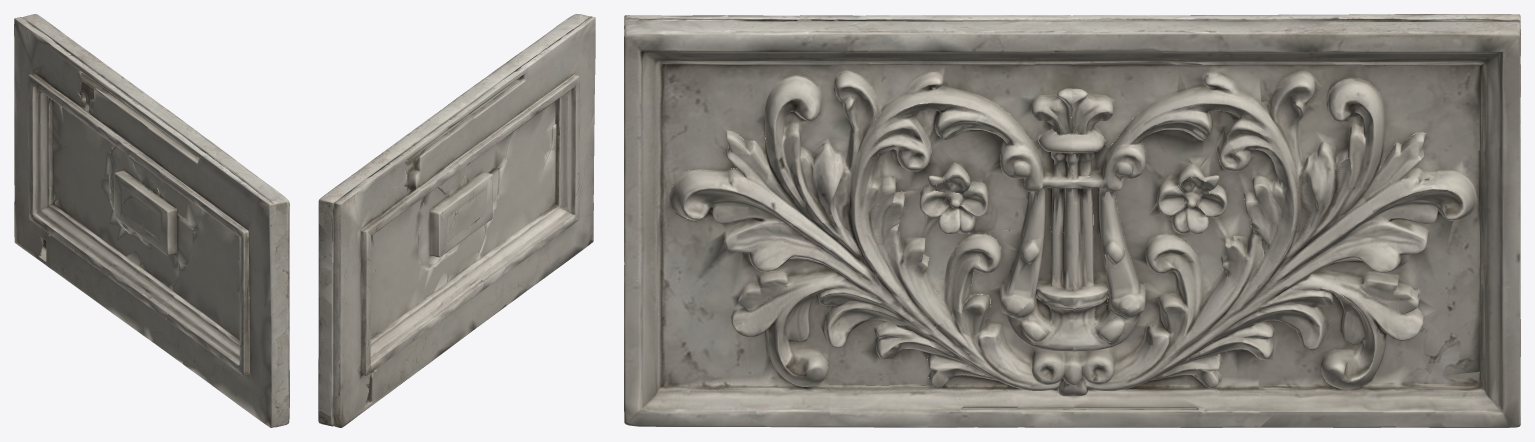
The model's file is relief-1.glb.
3 views of the same model, side by side, from view 1: azimuth 30°, elevation 25°; view 2: azimuth 150°, elevation 25°; view 3: azimuth 270°, elevation 25° (orthographic). The views are drawn at different scales.
Parts seen in each view (by area): view 1: tripo_node_01d29424-f855-4417-b050-a11e23d70070; view 2: tripo_node_01d29424-f855-4417-b050-a11e23d70070; view 3: tripo_node_01d29424-f855-4417-b050-a11e23d70070.
Part boxes in pixels (box(x1,y1,x2,y2)): tripo_node_01d29424-f855-4417-b050-a11e23d70070: box(14, 14, 289, 427); tripo_node_01d29424-f855-4417-b050-a11e23d70070: box(318, 14, 595, 427); tripo_node_01d29424-f855-4417-b050-a11e23d70070: box(624, 14, 1520, 427).
Size of the model in its own units: 0.0909 by 0.487 by 1.
1 material, 1 textured.
